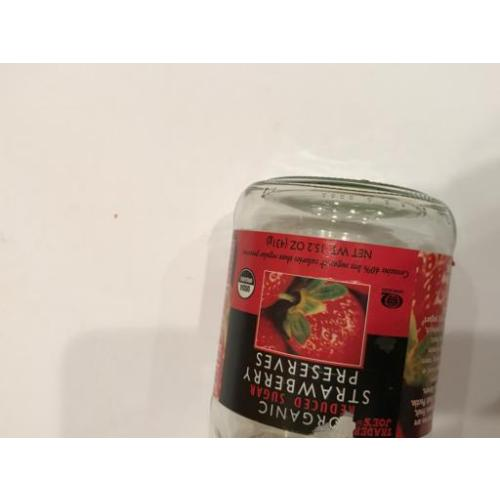glass: (233, 179, 436, 437)
